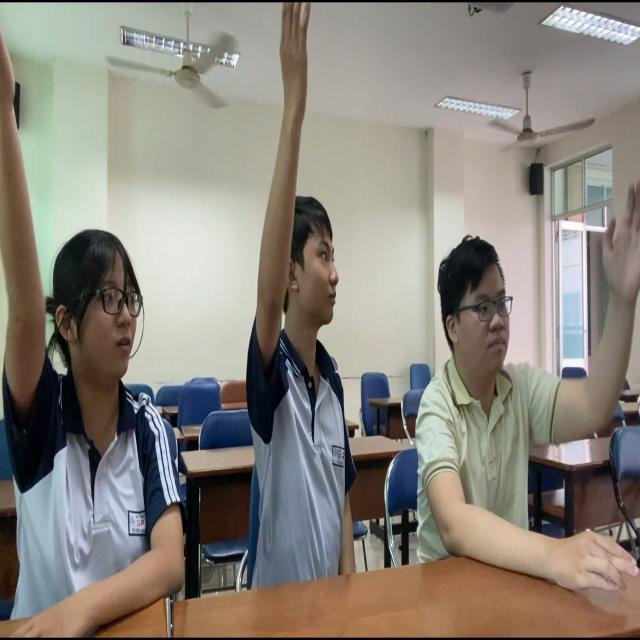raise_hand: (1, 1, 185, 640), (413, 184, 640, 624), (238, 1, 374, 607)
